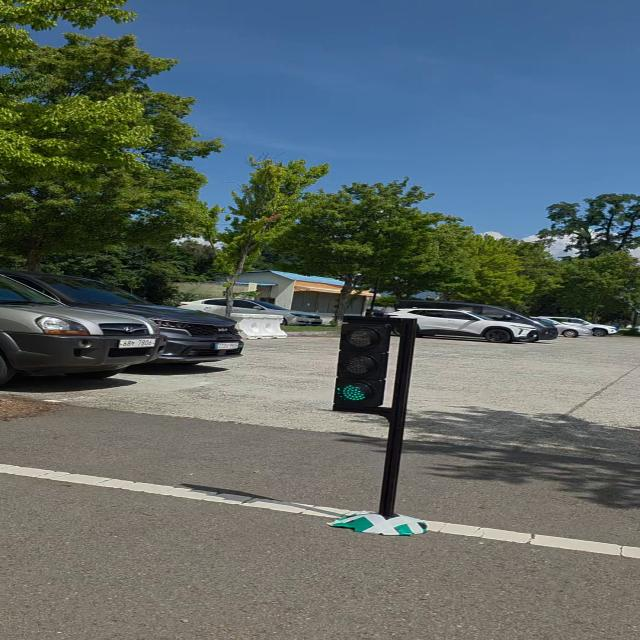green: (332, 322, 394, 410)
